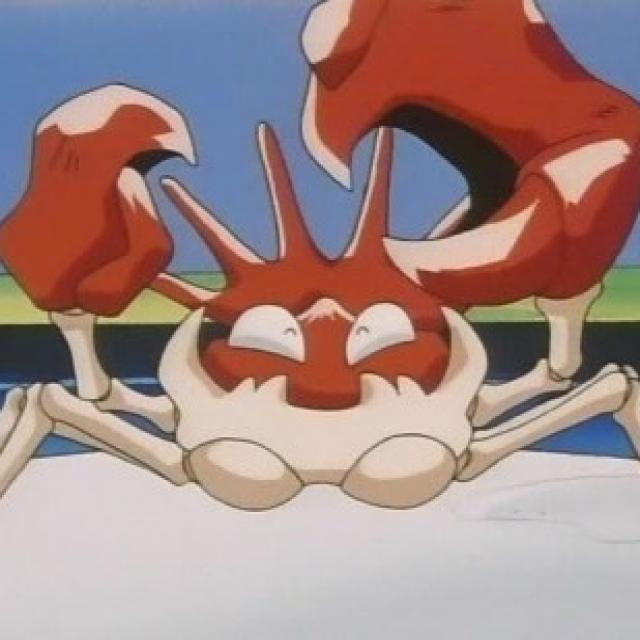Kingler: (16, 110, 561, 500)
